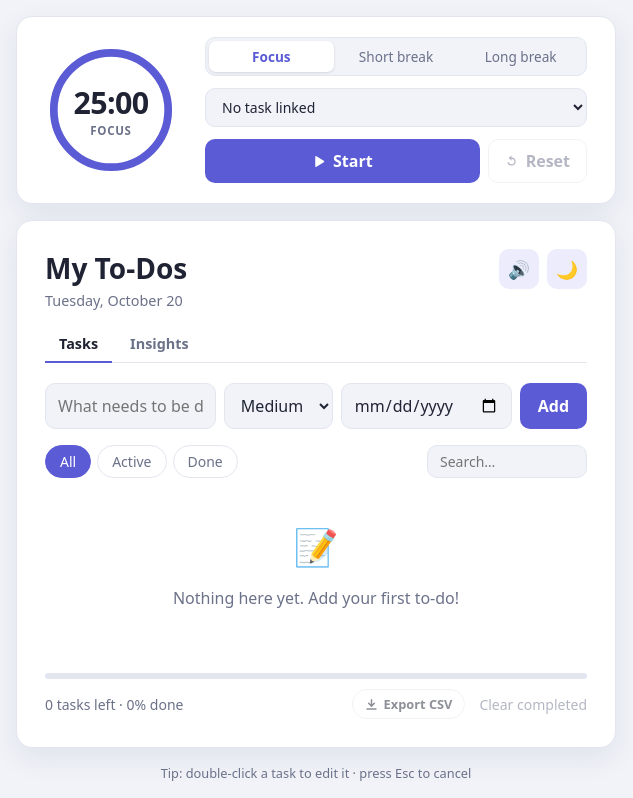
Test case: App: managing to-dos › shows the newest task first
Type "First" into the field named "New to-do" at (130, 406), box [45,383,216,429]
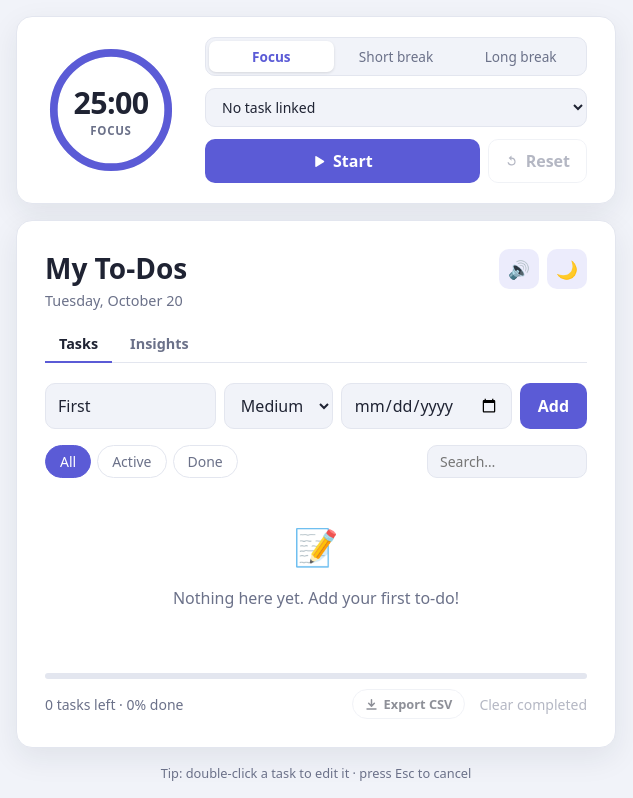
Click the button "Add" at (553, 406), box [520,383,587,429]
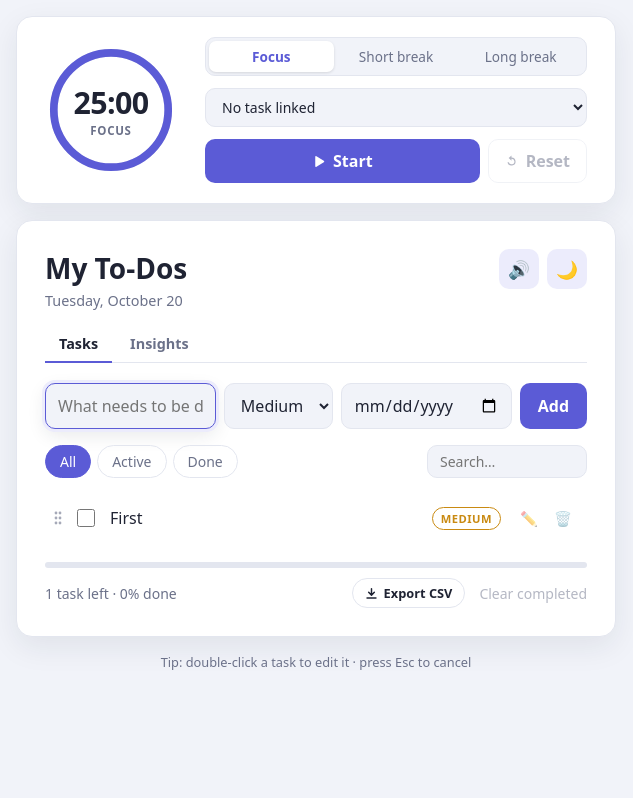
Type "Second" into the field named "New to-do" at (130, 406), box [45,383,216,429]
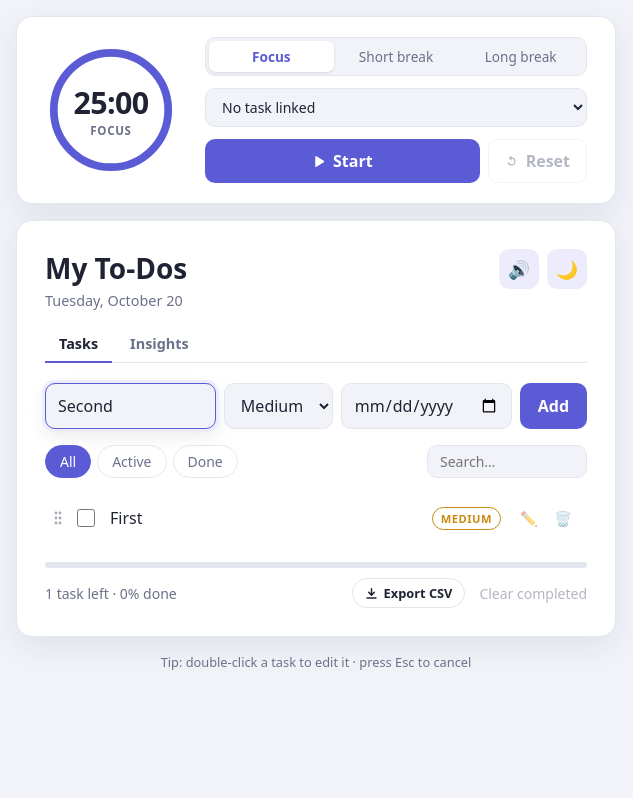
Click the button "Add" at (553, 406), box [520,383,587,429]
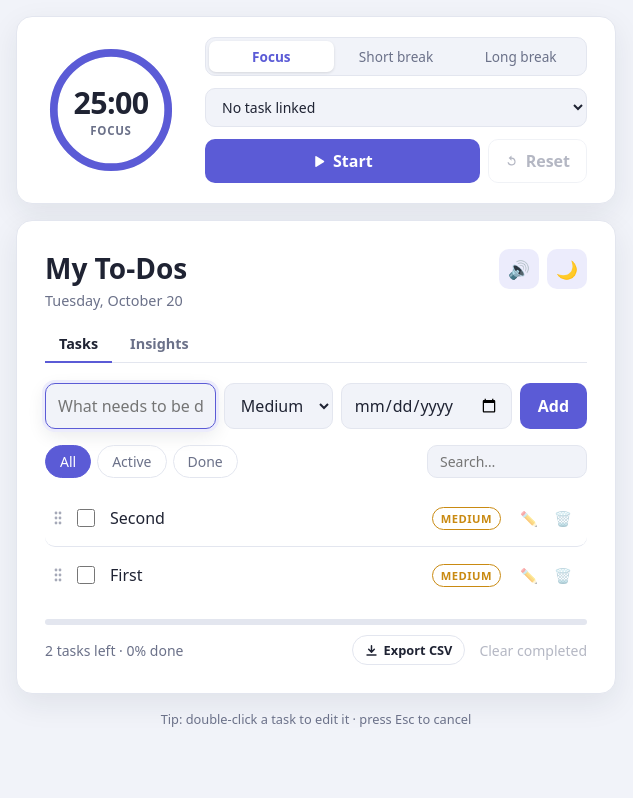
Expected: the list item "First medium ✏️ 🗑️" is shown, [49,559,579,591]
Expected: the list item "Second medium ✏️ 🗑️" is shown, [45,490,587,547]
